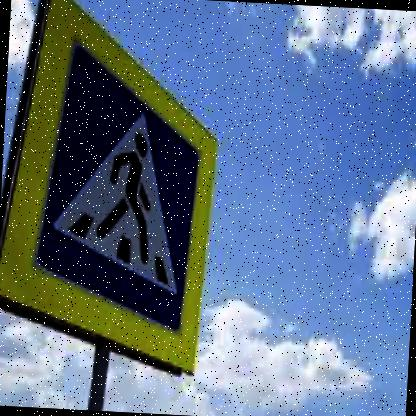crosswalk: (33, 43, 206, 333)
